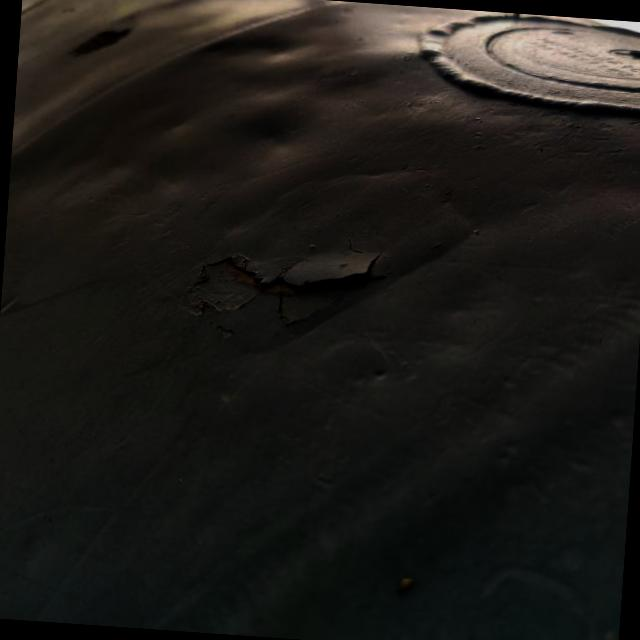dent: (209, 84, 332, 190), (180, 10, 318, 86)
